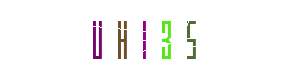1: (112, 0, 192, 80)
3: (126, 0, 206, 80)
5: (151, 0, 231, 80)
H: (82, 0, 162, 80)
U: (72, 0, 152, 80)
